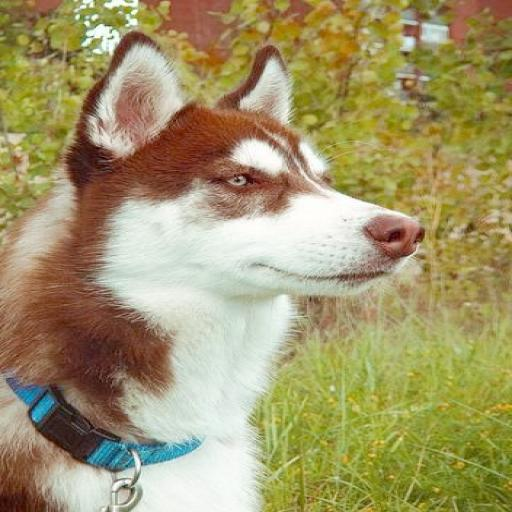dog_face: (64, 31, 429, 294)
